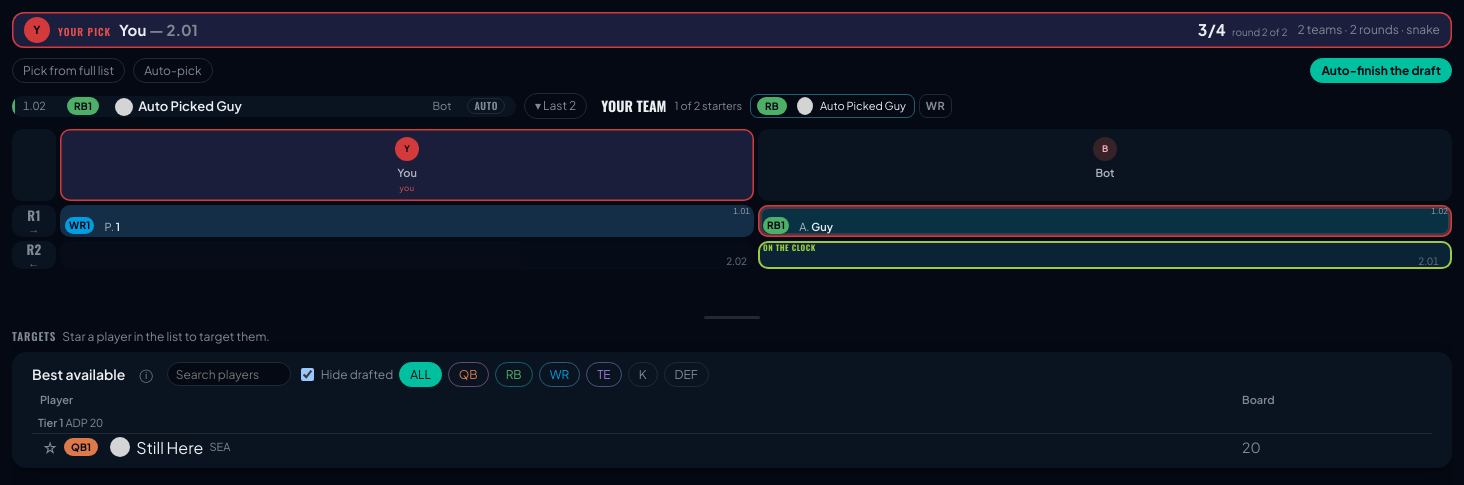
Test: MockDraftView auto controls › Auto-finish disables itself while the request runs, then shows the returned state
Click the button "Auto-finish the draft" at coordinates (1381, 71), box [1310,58,1452,83]
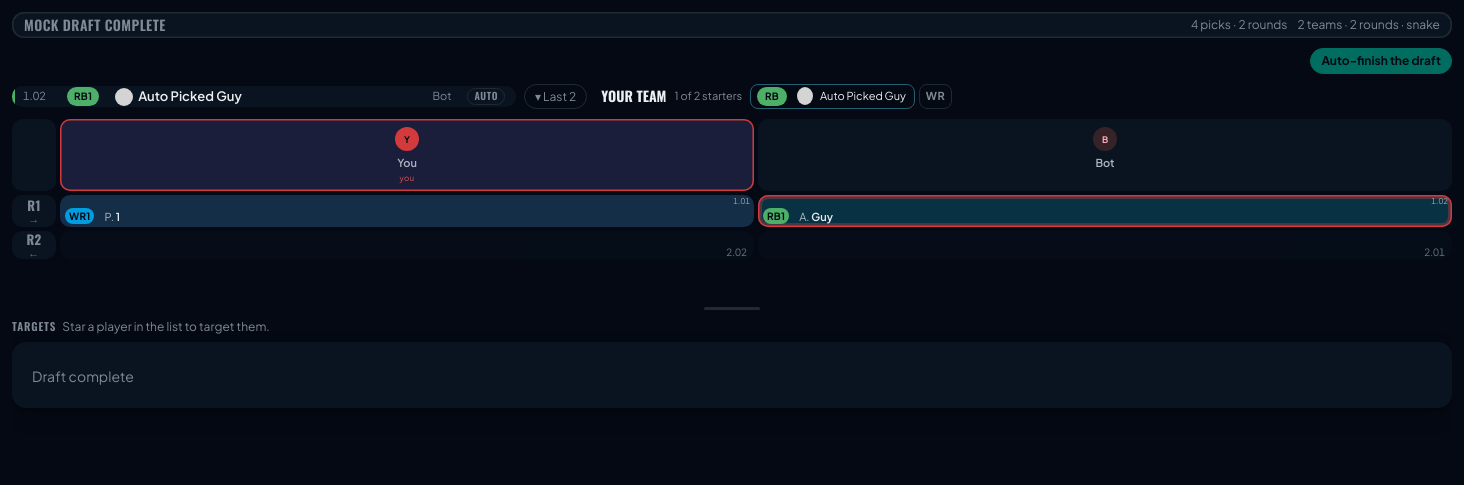
Result: the button named "Finishing…" is disabled at [1310,48,1452,74]
Result: the button "Auto-finish the draft" is disabled at [1310,48,1452,74]
Result: the button "Auto-pick" is gone
